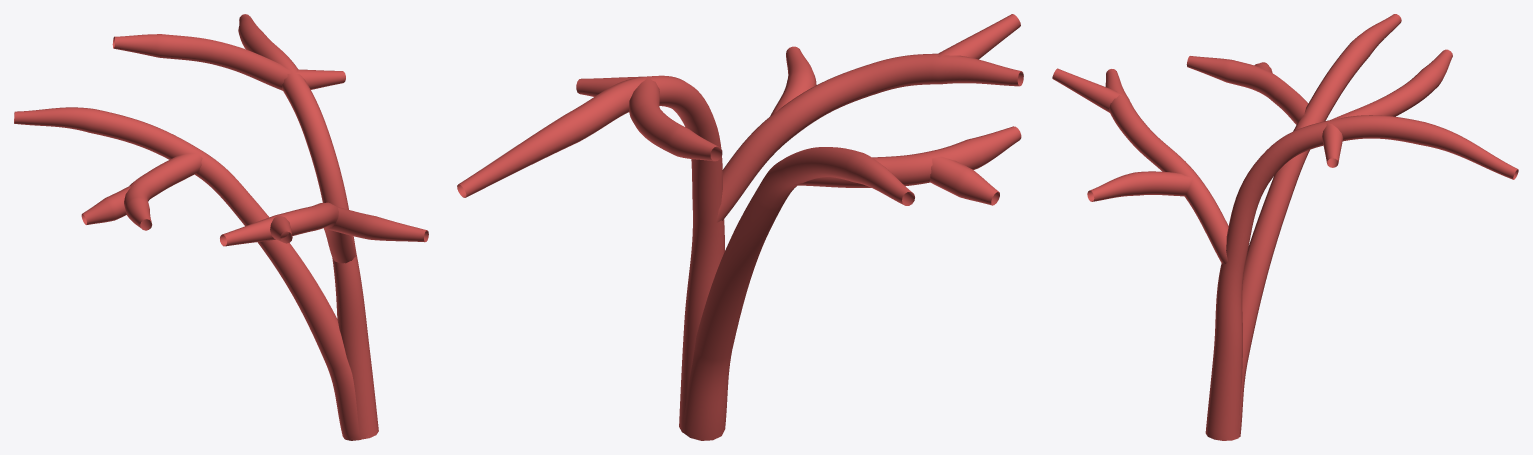
3 renders of one model, left to right at view 1: azimuth 30°, elevation 25°; view 2: azimuth 150°, elevation 25°; view 3: azimuth 270°, elevation 25°, orthographic. The views are drawn at different scales.
Parts seen in each view (by area): view 1: 右肺下叶上段动脉; view 2: 右肺下叶上段动脉; view 3: 右肺下叶上段动脉.
Boxes of the visible parts, box(x1,y1,x2,y2) form: 右肺下叶上段动脉: box(14, 14, 428, 440); 右肺下叶上段动脉: box(457, 14, 1023, 440); 右肺下叶上段动脉: box(1052, 14, 1518, 440).
Bounding box in the file's own units: 0.0833 × 0.0912 × 0.1172.
